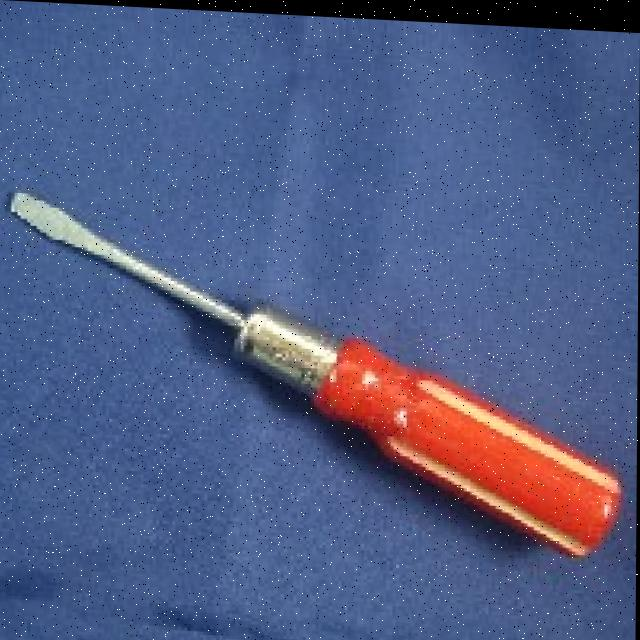Screwdriver: (11, 195, 621, 550)
